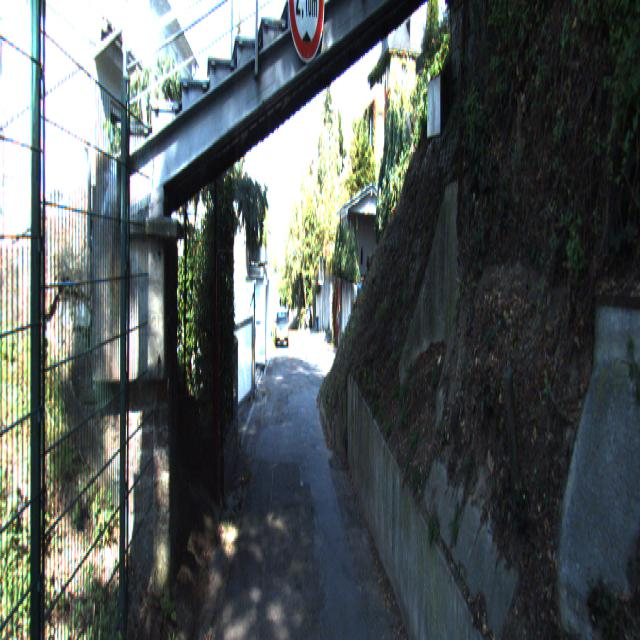Car: (276, 307, 289, 347)
